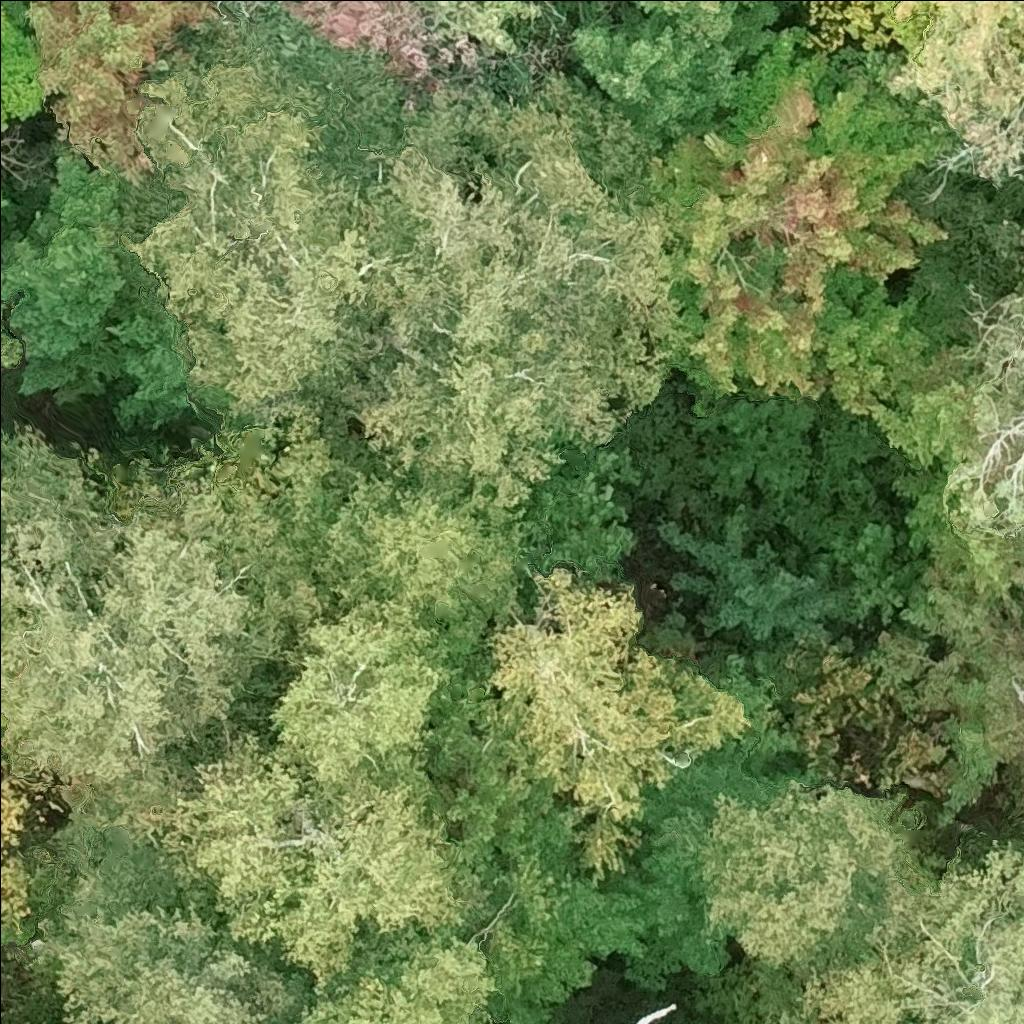crown: (0, 395, 361, 817), (343, 70, 689, 502), (644, 27, 959, 405), (123, 43, 379, 417), (478, 566, 750, 887), (160, 729, 485, 990), (0, 136, 192, 433), (27, 844, 313, 1023), (687, 778, 921, 978), (790, 832, 1023, 1023), (310, 440, 541, 627), (264, 582, 464, 795), (27, 0, 222, 186), (271, 0, 552, 102), (883, 0, 1023, 186), (572, 4, 747, 151), (296, 923, 499, 1023), (607, 0, 798, 55), (799, 0, 927, 55), (0, 0, 52, 134), (0, 749, 35, 925), (0, 418, 55, 521), (968, 473, 1023, 528), (0, 300, 22, 375), (630, 1002, 682, 1023), (0, 185, 9, 214), (0, 717, 7, 752), (1017, 285, 1023, 319), (1016, 349, 1023, 363), (33, 1020, 43, 1023), (0, 1021, 6, 1023)
